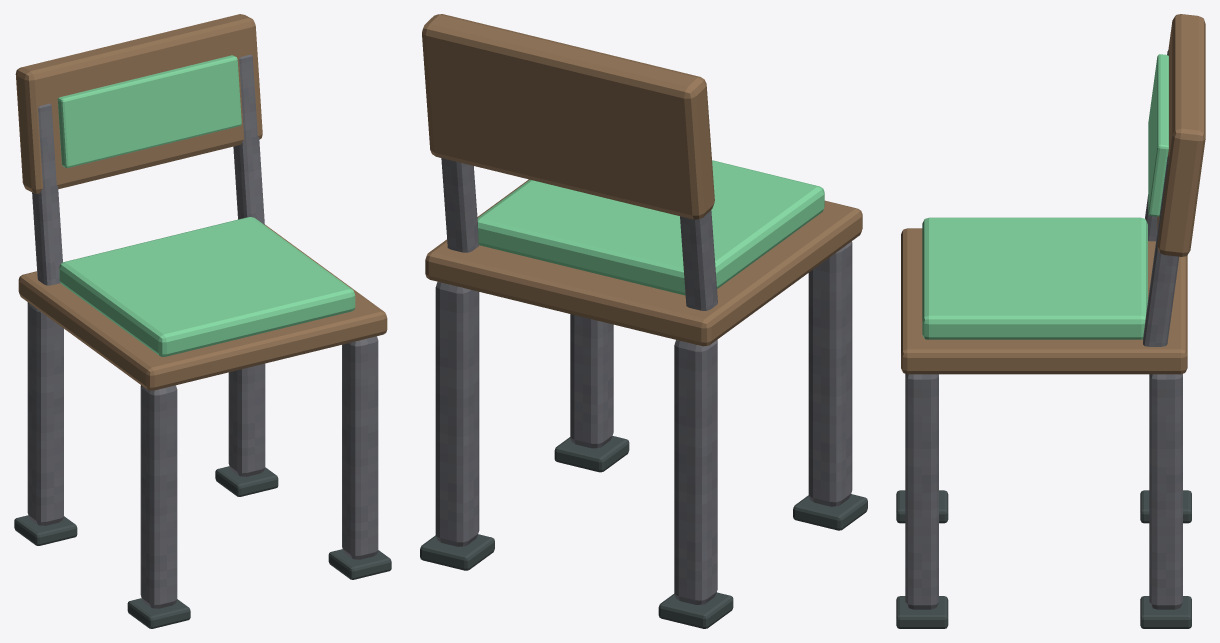
Rendered from lbd_cafe_chair.glb.
3 views of the same model, side by side, from view 1: azimuth 30°, elevation 25°; view 2: azimuth 150°, elevation 25°; view 3: azimuth 270°, elevation 25° (orthographic). The views are drawn at different scales.
Parts seen in each view (by area): view 1: cafe_chair__cushion_030, cafe_chair__back_039, cafe_chair__back pad_042, cafe_chair__seat_027, cafe_chair__leg_003, cafe_chair__leg_015, cafe_chair__leg_009, cafe_chair__leg_021, cafe_chair__back support_033, cafe_chair__back support_036, cafe_chair__rubber foot_018, cafe_chair__rubber foot_012 (+2 smaller); view 2: cafe_chair__back_039, cafe_chair__cushion_030, cafe_chair__seat_027, cafe_chair__leg_021, cafe_chair__leg_009, cafe_chair__leg_003, cafe_chair__leg_015, cafe_chair__back support_033, cafe_chair__back support_036, cafe_chair__rubber foot_012, cafe_chair__rubber foot_018, cafe_chair__rubber foot_006 (+1 smaller); view 3: cafe_chair__cushion_030, cafe_chair__seat_027, cafe_chair__back_039, cafe_chair__leg_015, cafe_chair__leg_021, cafe_chair__back pad_042, cafe_chair__back support_036, cafe_chair__rubber foot_018, cafe_chair__rubber foot_024, cafe_chair__rubber foot_006, cafe_chair__rubber foot_012.
Part boxes in pixels (<box>): cafe_chair__cushion_030: <box>59,217,355,356</box>; cafe_chair__back_039: <box>15,14,262,193</box>; cafe_chair__back pad_042: <box>57,55,241,167</box>; cafe_chair__seat_027: <box>18,224,387,390</box>; cafe_chair__leg_003: <box>140,385,177,608</box>; cafe_chair__leg_015: <box>342,336,378,559</box>; cafe_chair__leg_009: <box>27,302,63,525</box>; cafe_chair__leg_021: <box>228,363,265,476</box>; cafe_chair__back support_033: <box>32,103,62,285</box>; cafe_chair__back support_036: <box>233,54,264,224</box>; cafe_chair__rubber foot_018: <box>328,549,391,579</box>; cafe_chair__rubber foot_012: <box>14,515,77,545</box>; cafe_chair__back_039: <box>422,14,714,219</box>; cafe_chair__cushion_030: <box>477,160,824,295</box>; cafe_chair__seat_027: <box>425,179,862,346</box>; cafe_chair__leg_021: <box>435,282,479,546</box>; cafe_chair__leg_009: <box>674,339,717,604</box>; cafe_chair__leg_003: <box>808,241,852,506</box>; cafe_chair__leg_015: <box>570,314,613,448</box>; cafe_chair__back support_033: <box>680,210,717,310</box>; cafe_chair__back support_036: <box>441,158,478,252</box>; cafe_chair__rubber foot_012: <box>658,592,733,628</box>; cafe_chair__rubber foot_018: <box>554,436,629,472</box>; cafe_chair__rubber foot_006: <box>793,494,867,530</box>; cafe_chair__cushion_030: <box>922,217,1147,339</box>; cafe_chair__seat_027: <box>901,228,1187,374</box>; cafe_chair__back_039: <box>1157,14,1205,256</box>; cafe_chair__leg_015: <box>905,374,938,609</box>; cafe_chair__leg_021: <box>1149,374,1182,609</box>; cafe_chair__back pad_042: <box>1148,54,1168,216</box>; cafe_chair__back support_036: <box>1143,156,1179,346</box>; cafe_chair__rubber foot_018: <box>896,596,948,628</box>; cafe_chair__rubber foot_024: <box>1140,596,1191,628</box>; cafe_chair__rubber foot_006: <box>896,490,948,523</box>; cafe_chair__rubber foot_012: <box>1140,490,1191,523</box>.
Size of the model in its own units: 0.495 by 0.8959 by 0.5072.
Materials: 4 (1 with a texture image).
